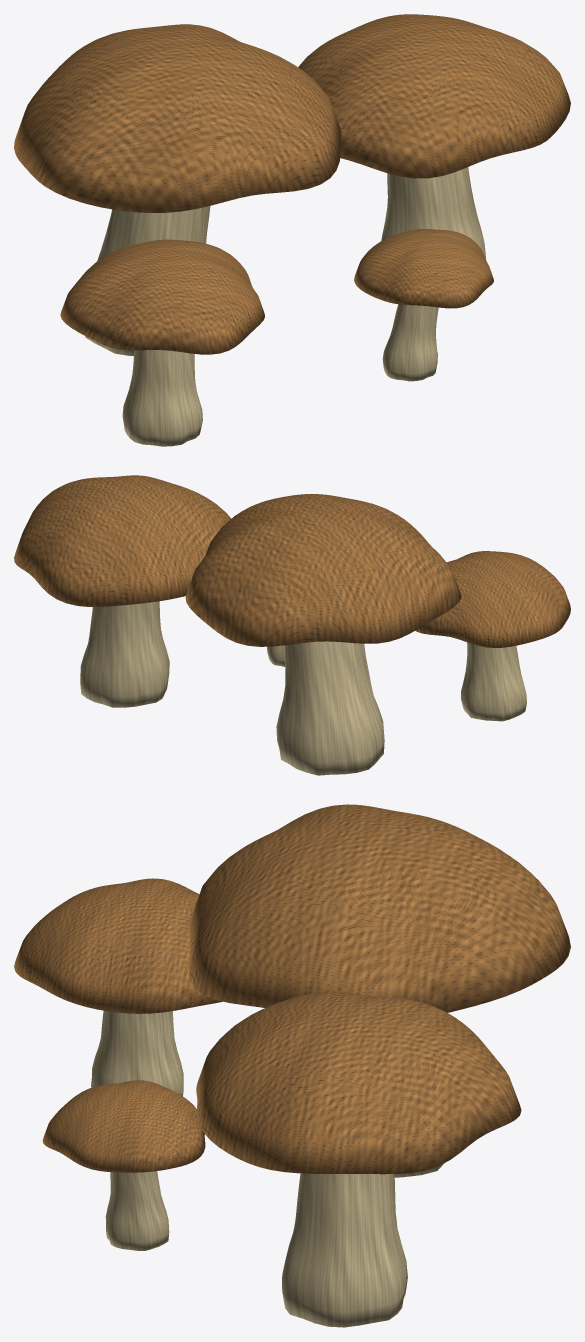
Rendered from ochre.glb.
The picture shows the model from 3 angles, top to bottom: view 1: azimuth 30°, elevation 25°; view 2: azimuth 150°, elevation 25°; view 3: azimuth 270°, elevation 25°; orthographic projection. The views are drawn at different scales.
Visible parts, largest first — view 1: Ochre_01, Ochre_02, Ochre_03, Ochre_04; view 2: Ochre_01, Ochre_02, Ochre_03; view 3: Ochre_02, Ochre_01, Ochre_03, Ochre_04.
Boxes of the visible parts, <box> form: Ochre_01: <box>14,24,341,356</box>; Ochre_02: <box>298,14,570,259</box>; Ochre_03: <box>60,239,264,446</box>; Ochre_04: <box>354,229,493,381</box>; Ochre_01: <box>185,494,461,775</box>; Ochre_02: <box>14,475,231,707</box>; Ochre_03: <box>415,551,570,721</box>; Ochre_02: <box>196,991,521,1327</box>; Ochre_01: <box>188,804,570,1177</box>; Ochre_03: <box>14,878,222,1096</box>; Ochre_04: <box>42,1080,205,1250</box>.
Size of the model in its own units: 0.1869 by 0.09 by 0.1374.
Materials: 3 (3 with a texture image).
